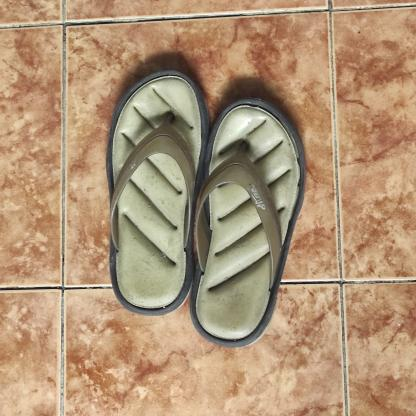Brown Flip Flop: (194, 99, 306, 349), (104, 70, 206, 315)
